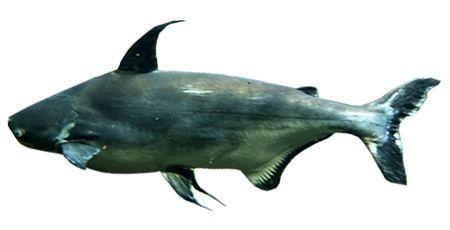Pangasius: (11, 16, 444, 210)
